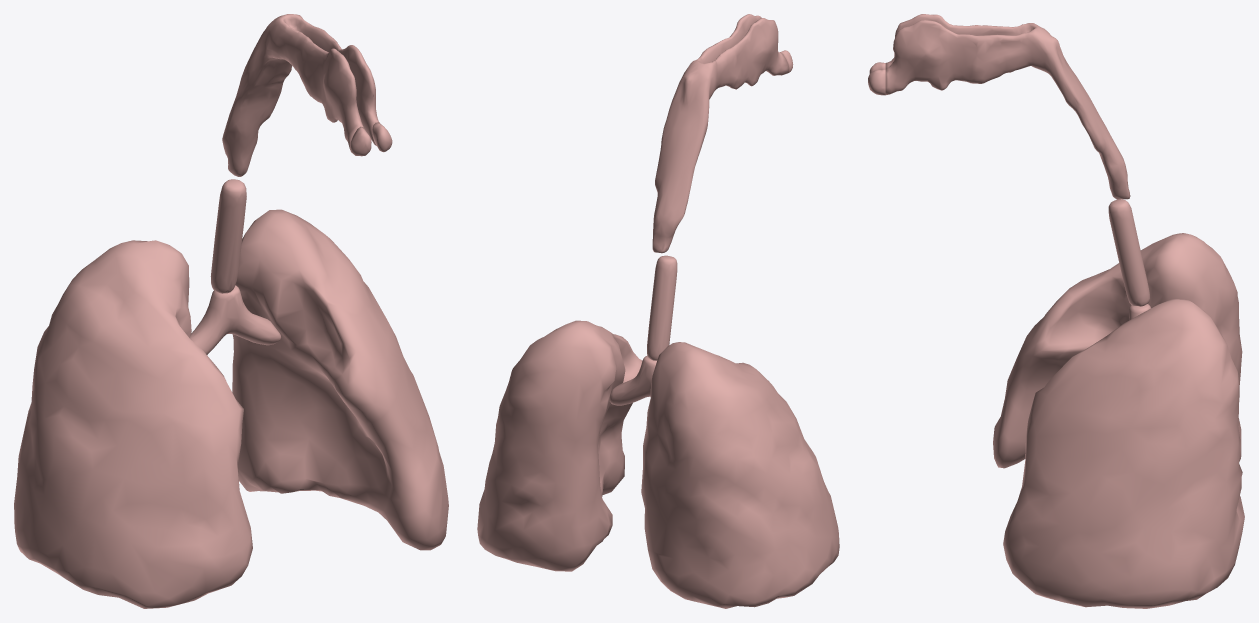
The model's file is pediatric_infant_female.respiratory.LOD0.glb.
3 views of the same model, side by side, from view 1: azimuth 30°, elevation 25°; view 2: azimuth 150°, elevation 25°; view 3: azimuth 270°, elevation 25° (orthographic). The views are drawn at different scales.
Visible parts, largest first — view 1: PEDIATRIC.INFANT.FEMALE.RESPIRATORY.LUNG.R, PEDIATRIC.INFANT.FEMALE.RESPIRATORY.LUNG.L, PEDIATRIC.INFANT.FEMALE.RESPIRATORY.ET2, PEDIATRIC.INFANT.FEMALE.RESPIRATORY.BB1, PEDIATRIC.INFANT.FEMALE.RESPIRATORY.TRACHEA, PEDIATRIC.INFANT.FEMALE.RESPIRATORY.ET1; view 2: PEDIATRIC.INFANT.FEMALE.RESPIRATORY.LUNG.R, PEDIATRIC.INFANT.FEMALE.RESPIRATORY.LUNG.L, PEDIATRIC.INFANT.FEMALE.RESPIRATORY.ET2, PEDIATRIC.INFANT.FEMALE.RESPIRATORY.TRACHEA, PEDIATRIC.INFANT.FEMALE.RESPIRATORY.BB1; view 3: PEDIATRIC.INFANT.FEMALE.RESPIRATORY.LUNG.L, PEDIATRIC.INFANT.FEMALE.RESPIRATORY.LUNG.R, PEDIATRIC.INFANT.FEMALE.RESPIRATORY.ET2, PEDIATRIC.INFANT.FEMALE.RESPIRATORY.TRACHEA, PEDIATRIC.INFANT.FEMALE.RESPIRATORY.ET1.
Boxes of the visible parts, box(x1,y1,x2,y2) form: PEDIATRIC.INFANT.FEMALE.RESPIRATORY.LUNG.R: box(14, 240, 252, 608); PEDIATRIC.INFANT.FEMALE.RESPIRATORY.LUNG.L: box(232, 209, 448, 550); PEDIATRIC.INFANT.FEMALE.RESPIRATORY.ET2: box(222, 14, 379, 176); PEDIATRIC.INFANT.FEMALE.RESPIRATORY.BB1: box(190, 285, 281, 354); PEDIATRIC.INFANT.FEMALE.RESPIRATORY.TRACHEA: box(210, 179, 246, 293); PEDIATRIC.INFANT.FEMALE.RESPIRATORY.ET1: box(350, 122, 392, 156); PEDIATRIC.INFANT.FEMALE.RESPIRATORY.LUNG.R: box(641, 342, 839, 608); PEDIATRIC.INFANT.FEMALE.RESPIRATORY.LUNG.L: box(477, 320, 642, 571); PEDIATRIC.INFANT.FEMALE.RESPIRATORY.ET2: box(652, 14, 789, 253); PEDIATRIC.INFANT.FEMALE.RESPIRATORY.TRACHEA: box(647, 255, 677, 360); PEDIATRIC.INFANT.FEMALE.RESPIRATORY.BB1: box(609, 355, 656, 405); PEDIATRIC.INFANT.FEMALE.RESPIRATORY.LUNG.L: box(1003, 299, 1244, 608); PEDIATRIC.INFANT.FEMALE.RESPIRATORY.LUNG.R: box(993, 233, 1242, 468); PEDIATRIC.INFANT.FEMALE.RESPIRATORY.ET2: box(885, 14, 1130, 199); PEDIATRIC.INFANT.FEMALE.RESPIRATORY.TRACHEA: box(1108, 199, 1149, 306); PEDIATRIC.INFANT.FEMALE.RESPIRATORY.ET1: box(868, 62, 885, 95).
Size of the model in its own units: 0.1372 by 0.1924 by 0.1283.
